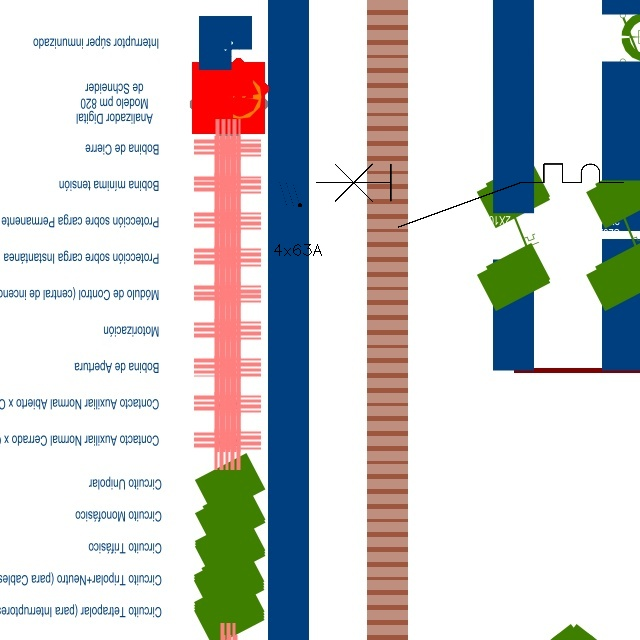interruptor_termomagnetico: (308, 156, 631, 235)
